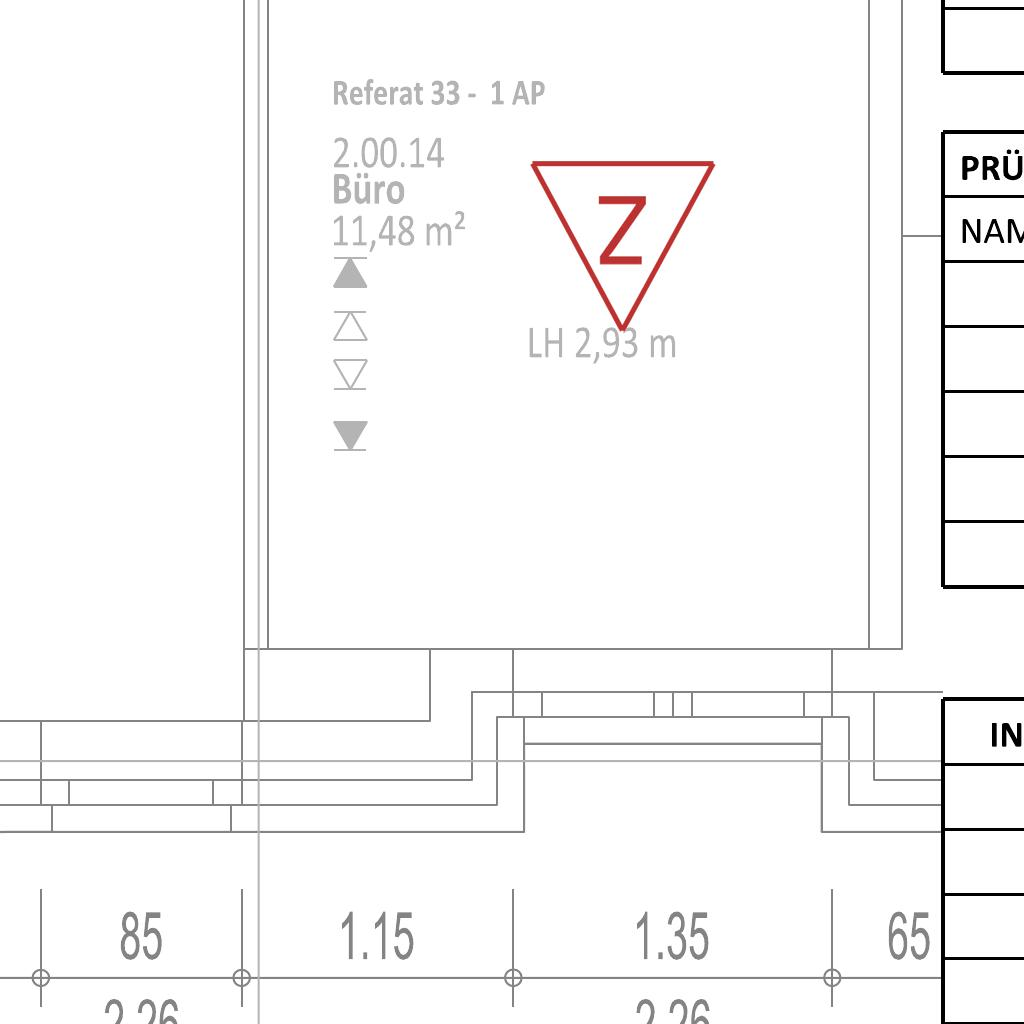Zimmersignalleuchte: (527, 146, 723, 346)
